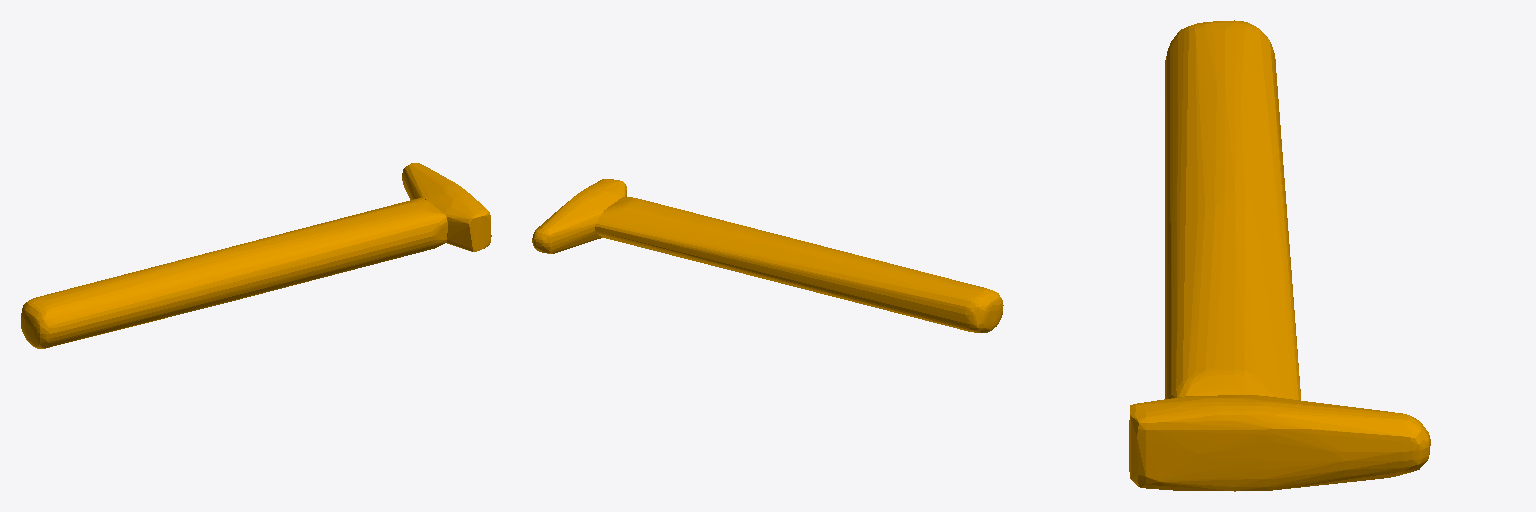
URDF robot description (model.urdf):
<?xml version="1.0" ?>
        <robot name="model.urdf">
        <link name="baseLink">
            <contact>
                <lateral_friction value="0.8"/>
                <rolling_friction value="0.001"/>
                <contact_cfm value="0.0"/>
                <contact_erp value="1.0"/>
            </contact>
            <inertial>
                <origin xyz="0.07 0.0 0.0" rpy="0 0 0"/>
                <mass value="0.253"/>
                <inertia ixx="0.001" ixy="0" ixz="0" iyy="0.001" iyz="0" izz="0.001"/>
            </inertial>
            <visual>
            <geometry>
                <mesh filename="hammer_2.obj" scale="1 1 1"/>
            </geometry>
            <!-- The following material makes the object white in Isaac Gym, so we comment it out.
            <material name="white"> <color rgba="1. 1. 1. 1."/> </material>
            -->
            </visual>
            <collision>
            <geometry>
                <mesh filename="decomp_0.obj" scale="1 1 1"/>
            </geometry>
            </collision>
            <collision>
            <geometry>
                <mesh filename="decomp_1.obj" scale="1 1 1"/>
            </geometry>
            </collision>
        </link>
        </robot>

--- What the picture shows (computed from the rendered views, not written in the file) ---
Views: 3 orthographic renders of the robot side by side, from view 1: azimuth 30°, elevation 25°; view 2: azimuth 150°, elevation 25°; view 3: azimuth 270°, elevation 25°.
Model model.urdf with 1 links and 0 joints (none), rooted at baseLink, posed every joint at zero.
Links seen in each view (by area): view 1: baseLink; view 2: baseLink; view 3: baseLink.
Link boxes in pixels (x1,y1,x2,y2): baseLink: [21, 163, 491, 348]; baseLink: [532, 179, 1003, 332]; baseLink: [1129, 20, 1430, 491].
Bounding box of the posed robot: 0.2729 × 0.0822 × 0.0287 m (x, y, z).
Meshes: 1 distinct files referenced, 1 mesh visuals loaded (1 OBJ).
